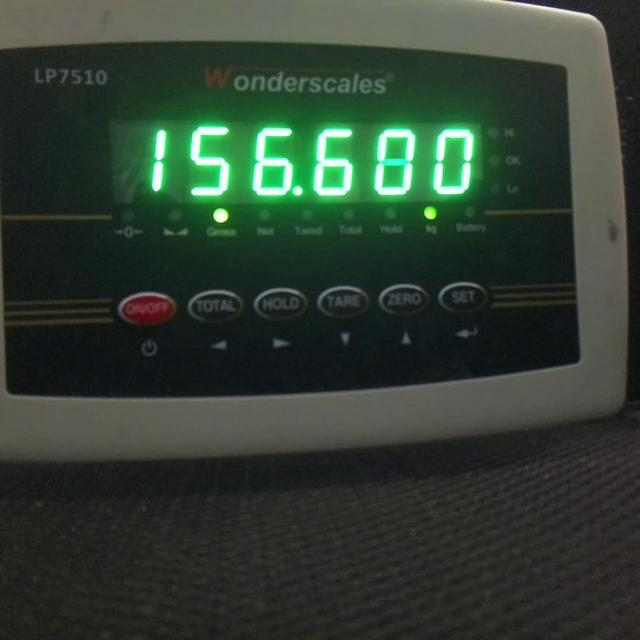.: (292, 184, 305, 196)
0: (433, 127, 473, 194)
1: (150, 129, 167, 192)
5: (188, 125, 231, 196)
6: (249, 112, 299, 210), (313, 127, 354, 196)
8: (374, 128, 415, 195)
